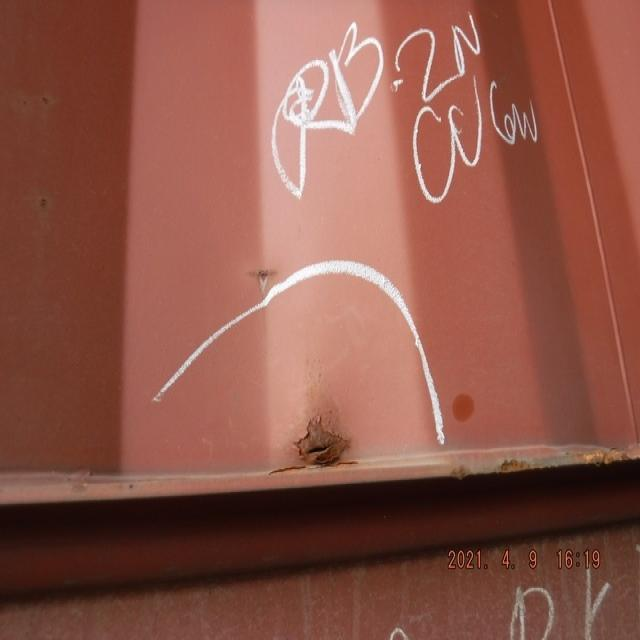hole: (295, 414, 354, 468)
